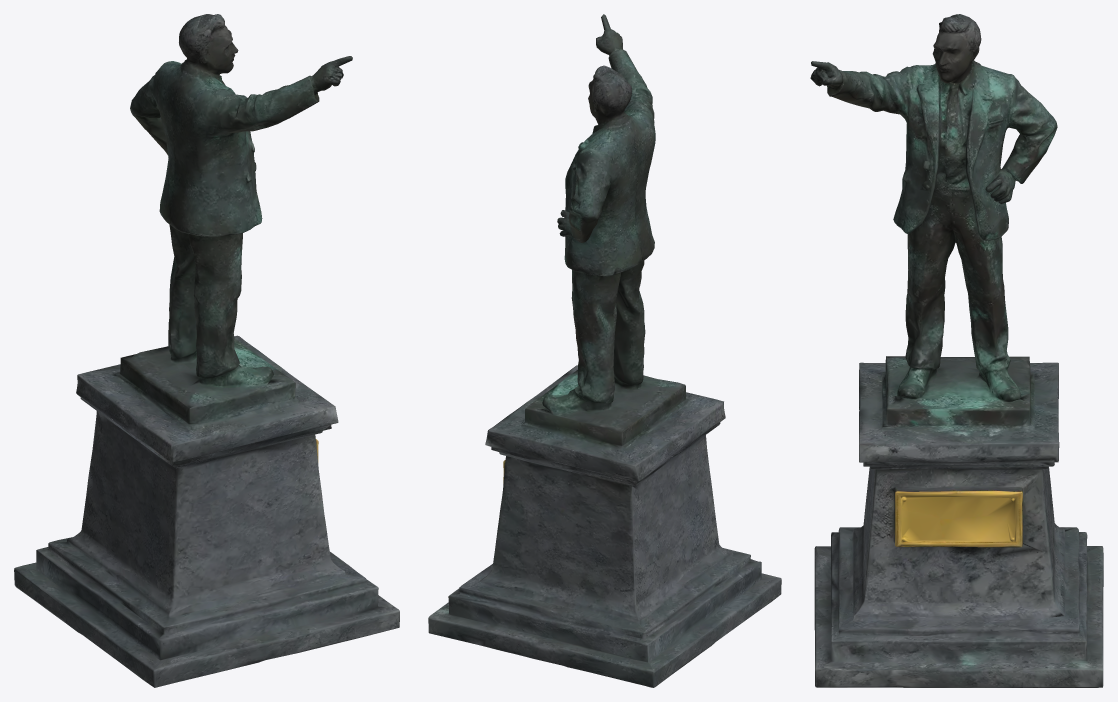
File: mayor_statue.glb
3 renders of one model, left to right at view 1: azimuth 30°, elevation 25°; view 2: azimuth 150°, elevation 25°; view 3: azimuth 270°, elevation 25°, orthographic. The views are drawn at different scales.
Visible parts, largest first — view 1: tripo_node_2c697d14-3211-43c5-9dee-ab0c8d33ba3a; view 2: tripo_node_2c697d14-3211-43c5-9dee-ab0c8d33ba3a; view 3: tripo_node_2c697d14-3211-43c5-9dee-ab0c8d33ba3a.
Part boxes in pixels (box(x1,y1,x2,y2)): tripo_node_2c697d14-3211-43c5-9dee-ab0c8d33ba3a: box(14, 14, 399, 687); tripo_node_2c697d14-3211-43c5-9dee-ab0c8d33ba3a: box(428, 14, 781, 687); tripo_node_2c697d14-3211-43c5-9dee-ab0c8d33ba3a: box(810, 14, 1103, 687).
Bounding box in the file's own units: 0.4347 × 0.9999 × 0.4345.
1 material, 1 textured.
